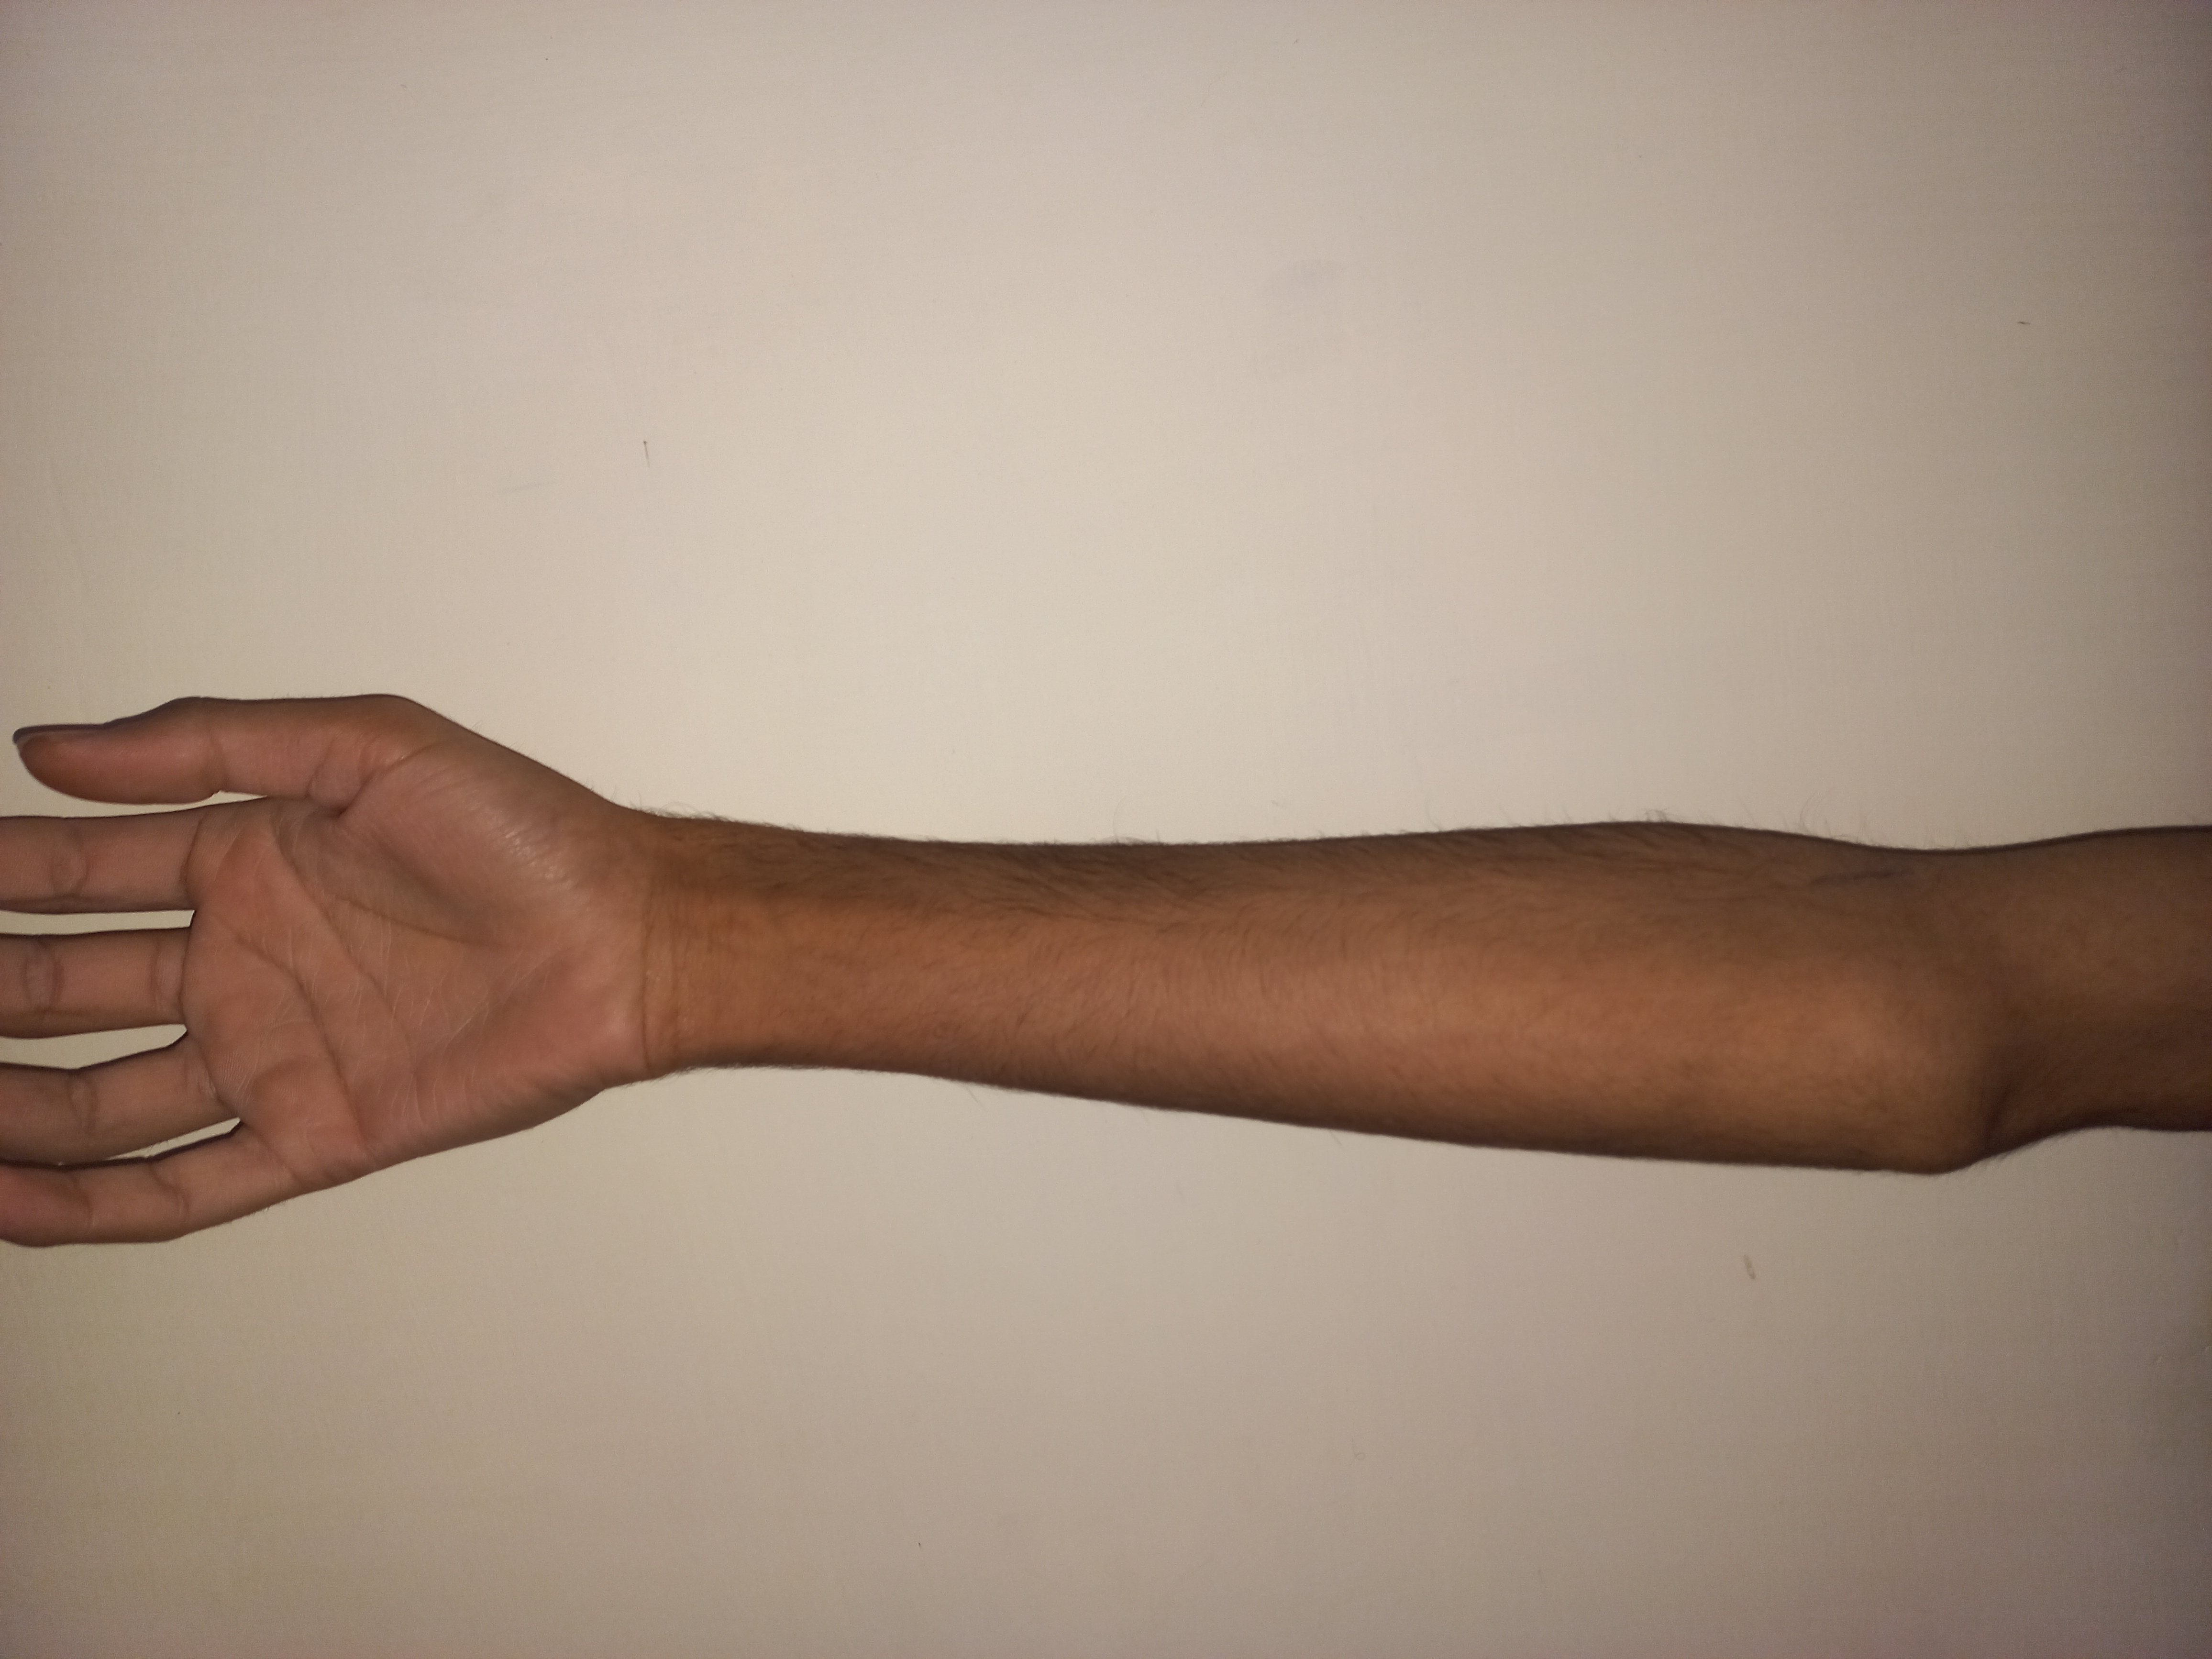vein: (1780, 852, 1951, 892)
